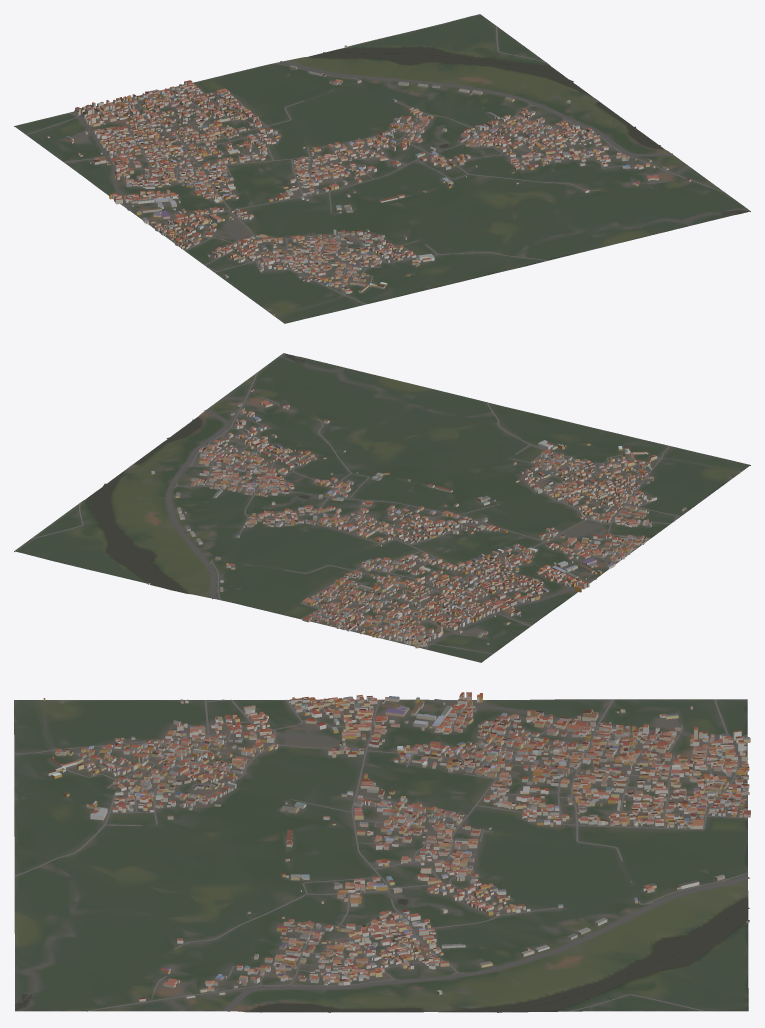
The picture shows the model from 3 angles, top to bottom: view 1: azimuth 30°, elevation 25°; view 2: azimuth 150°, elevation 25°; view 3: azimuth 270°, elevation 25°; orthographic projection. The views are drawn at different scales.
Visible parts, largest first — view 1: ground, buildings, roads, water; view 2: ground, buildings, roads, water; view 3: ground, buildings, roads, water.
Part boxes in pixels (x1,y1,x2,y2): ground: (14,14,750,323); buildings: (47,45,690,315); roads: (26,26,724,310); water: (308,47,748,215); ground: (14,353,750,662); buildings: (147,388,740,648); roads: (30,372,732,654); water: (86,353,309,593); ground: (14,699,748,1012); buildings: (43,692,750,1001); roads: (14,699,749,1011); water: (15,897,749,1012).
Bounding box in the file's own units: 1412 × 33.52 × 1409.
